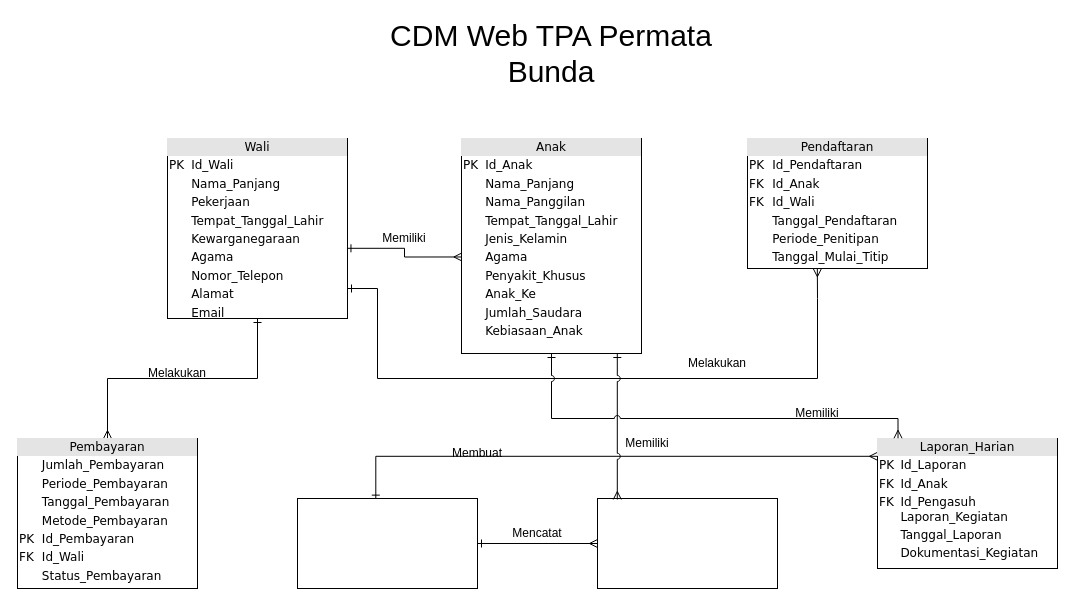
Some shapes in this 1075 by 606 pixel diagram are drawn without their labels. Each missing label, with the centre of its shape:
"Absensi Tanggal_Absensi Status_Kehadiran FK Id_Pengasuh FK Id_Anak" goes at point 687,543.
"Pengasuh PK Id_Pengasuh Nama_Panjang Tanggal_Lahir Jenis_Kelamin" goes at point 387,543.
